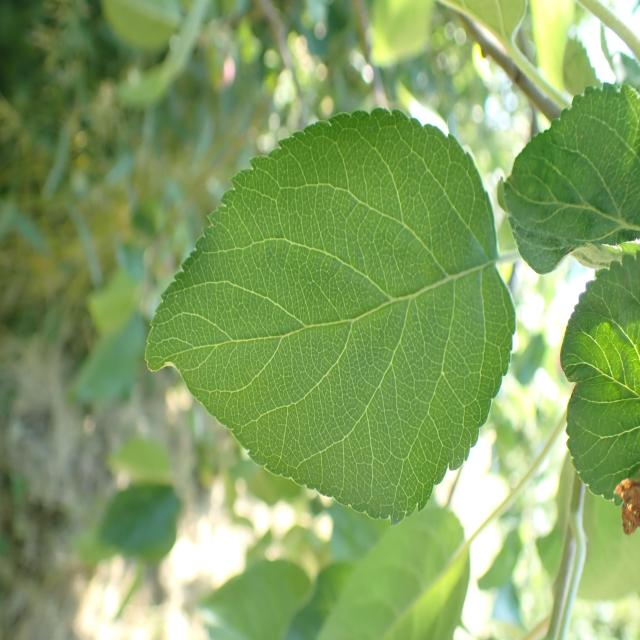healthy: (146, 107, 517, 525), (497, 82, 640, 276), (560, 250, 640, 506)
